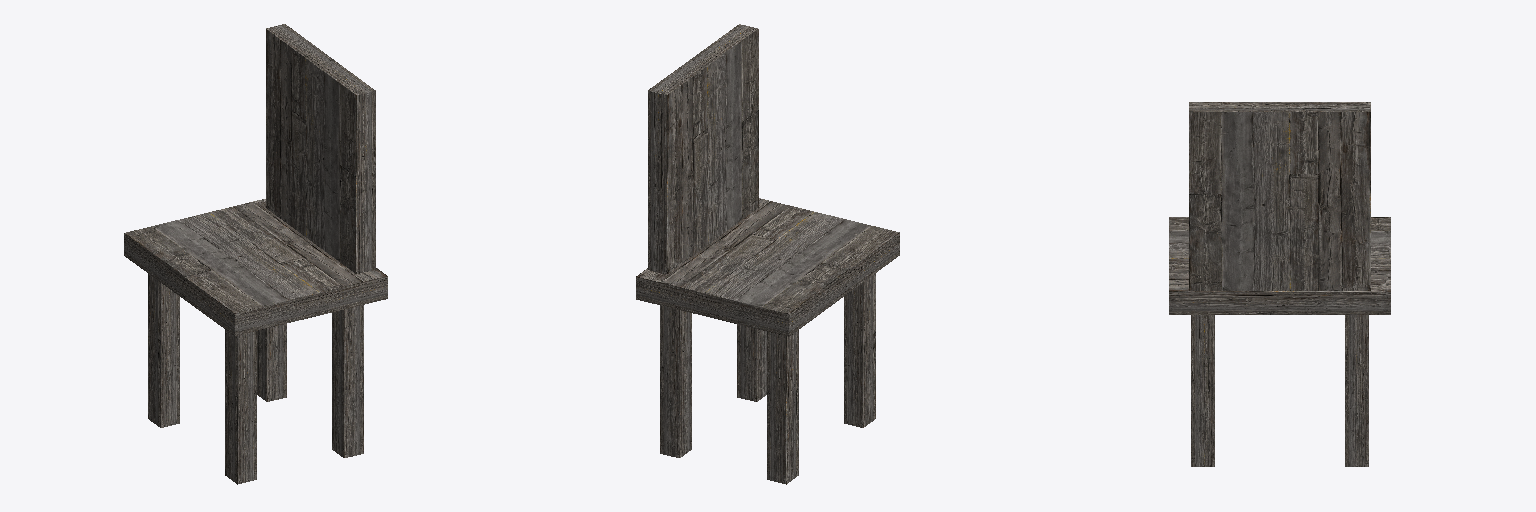
3 renders of one model, left to right at view 1: azimuth 30°, elevation 25°; view 2: azimuth 150°, elevation 25°; view 3: azimuth 270°, elevation 25°, orthographic.
Parts seen in each view (by area): view 1: Silla:polySurface6; view 2: Silla:polySurface6; view 3: Silla:polySurface6.
Part boxes in pixels (x1,y1,x2,y2): Silla:polySurface6: (124, 24, 387, 484); Silla:polySurface6: (636, 24, 899, 484); Silla:polySurface6: (1169, 102, 1390, 466).
Bounding box in the file's own units: 3.22 × 7.25 × 4.02.
1 materials, 1 textured.